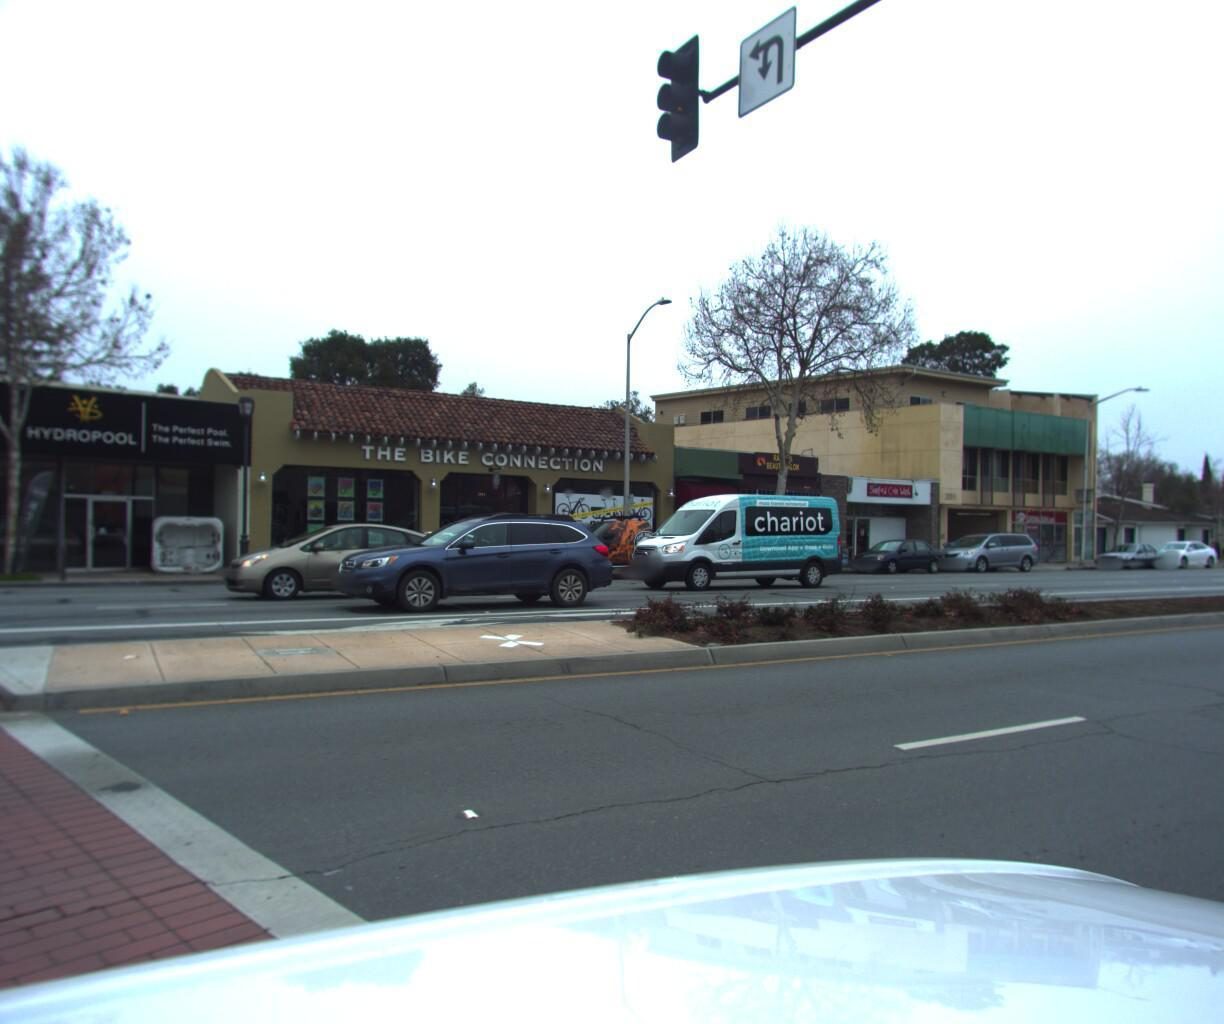car: (325, 505, 622, 619), (612, 481, 851, 590), (206, 513, 465, 604), (526, 507, 716, 582), (316, 523, 523, 590), (928, 527, 1041, 573), (840, 534, 951, 574), (1131, 535, 1216, 567), (1086, 536, 1163, 567), (1219, 536, 1224, 565)
